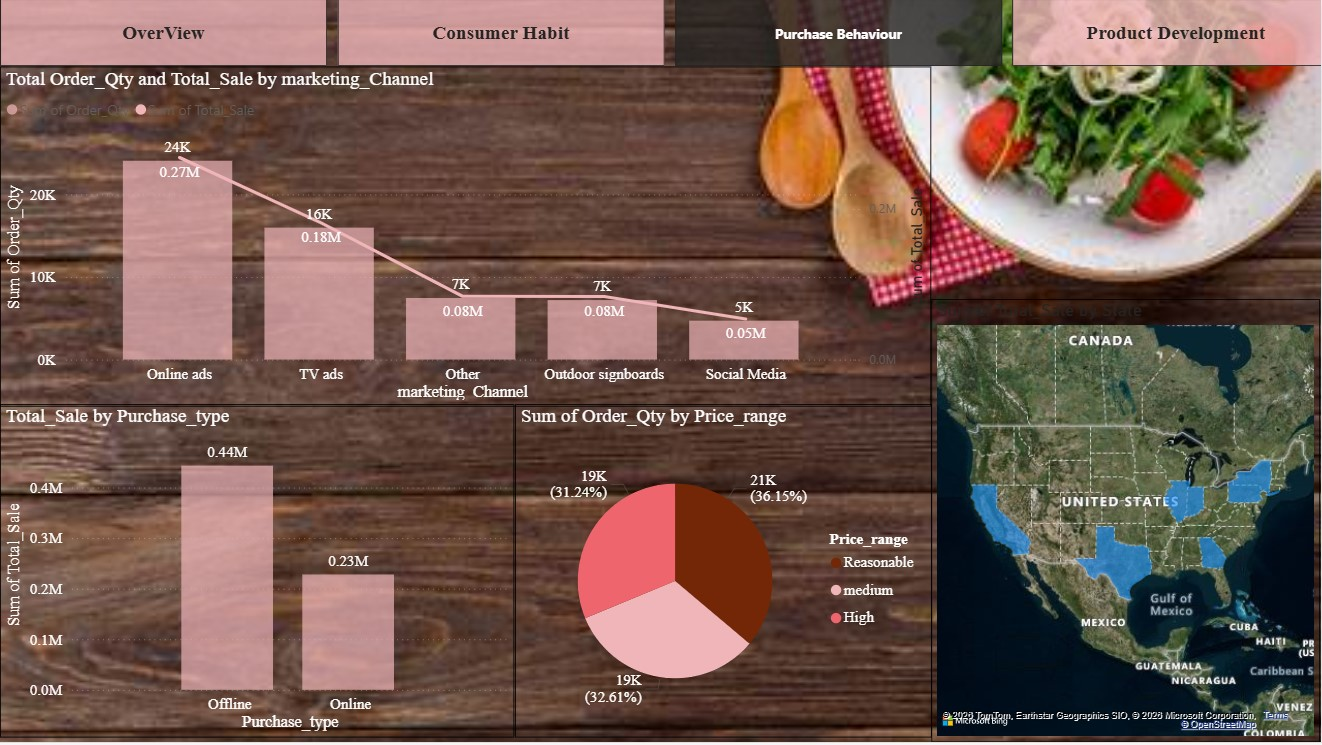

What the dashboard file says about the page in this screenshot:
{"tool":"powerbi","page":{"name":"Purchase Behaviour","canvas":[1280,720],"ordinal":2},"visuals":[{"type":"lineClusteredColumnComboChart","title":"Total_Sale by Purchase_type","fields":{"Category":["Fact_order_Details.Purchase_type"],"Y":["Sum(Fact_order_Details.Total_Sale)"]},"box":[0,391.9,498.6,323],"z":0},{"type":"pageNavigator","box":[0,0,1300,65.3],"z":1000},{"type":"pieChart","fields":{"Category":["Fact_order_Details.Price_range"],"Y":["Sum(Fact_order_Details.Order_Qty)"]},"box":[498.6,391.9,404.1,323],"z":2000},{"type":"lineStackedColumnComboChart","title":"Total Order_Qty and Total_Sale by marketing_Channel","fields":{"Category":["Fact_order_Details.marketing_Channel"],"Y":["Sum(Fact_order_Details.Order_Qty)"],"Y2":["Sum(Fact_order_Details.Total_Sale)"]},"box":[0,64.9,902.7,329.7],"z":3000},{"type":"filledMap","fields":{"Category":["Dim_Geography.State"]},"box":[902.7,290.5,377,429.7],"z":4000}]}

Visuals, with their boxes in screenshot pixels (x1, y1, x2, y2), scaled from the page's 1280x720 canvas onto the 1322x745 screenshot:
"Total_Sale by Purchase_type" lineClusteredColumnComboChart: bbox=[0, 406, 515, 740]
pageNavigator: bbox=[0, 0, 1321, 68]
pieChart - Fact_order_Details.Price_range x Sum(Fact_order_Details.Order_Qty): bbox=[515, 406, 932, 740]
"Total Order_Qty and Total_Sale by marketing_Channel" lineStackedColumnComboChart: bbox=[0, 67, 932, 408]
filledMap - Dim_Geography.State: bbox=[932, 301, 1321, 744]
